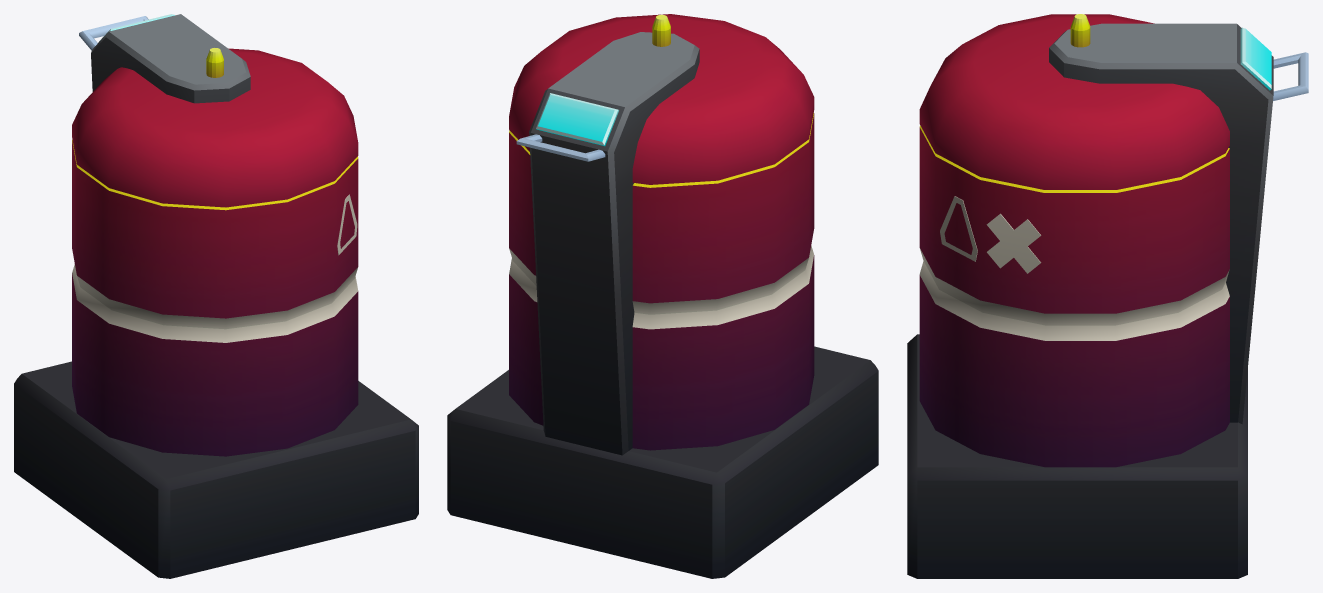
File: SM_Gas_Cylinder_2.fbx
The picture shows the model from 3 angles, left to right: view 1: azimuth 30°, elevation 25°; view 2: azimuth 150°, elevation 25°; view 3: azimuth 270°, elevation 25°; orthographic projection. The views are drawn at different scales.
Visible parts, largest first — view 1: Cube.006; view 2: Cube.006; view 3: Cube.006.
Part boxes in pixels (bbox=[...]): Cube.006: bbox=[14, 14, 418, 578]; Cube.006: bbox=[447, 14, 878, 578]; Cube.006: bbox=[907, 14, 1308, 578].
Size of the model in its own units: 69.22 by 112 by 82.91.
